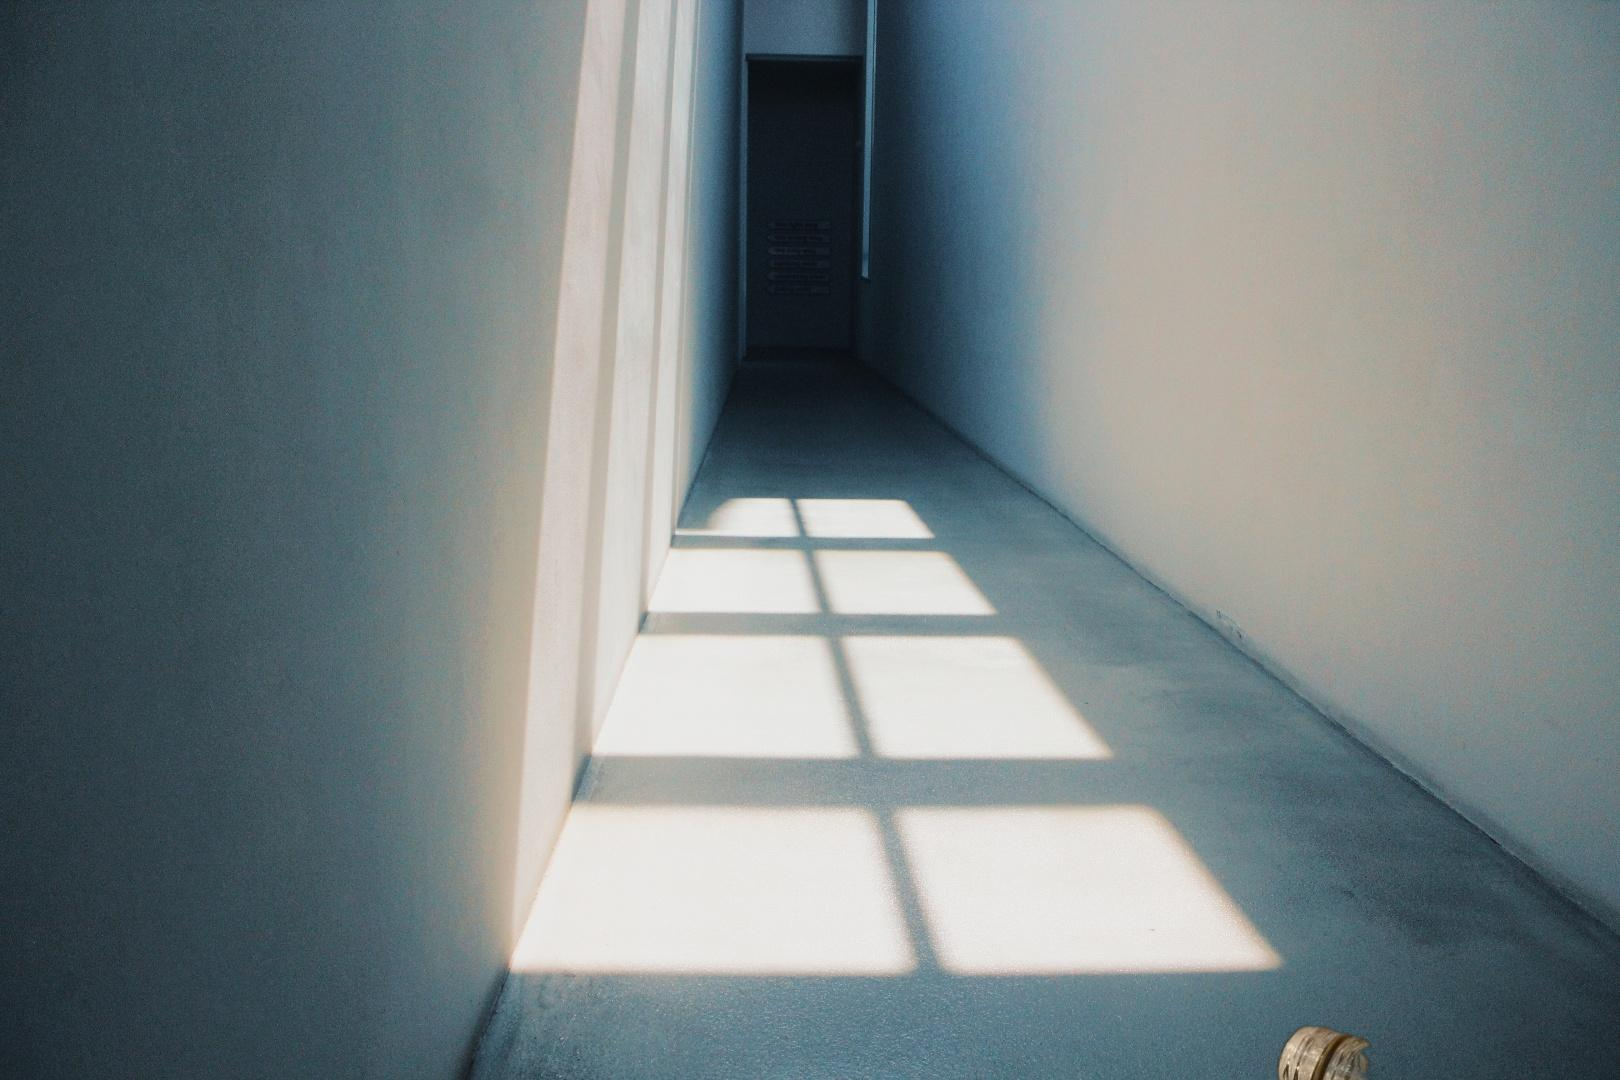glass: (1272, 1022, 1620, 1080)
